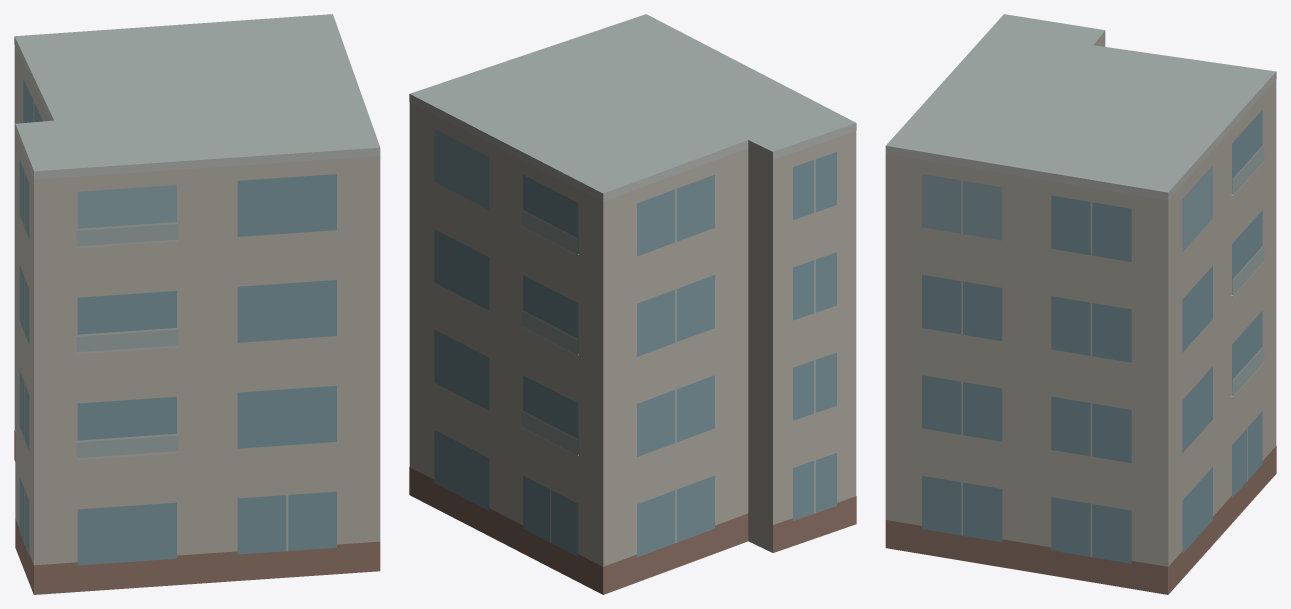
Rendered from survey-upis-32803687.glb.
3 renders of one model, left to right at view 1: azimuth 30°, elevation 25°; view 2: azimuth 150°, elevation 25°; view 3: azimuth 270°, elevation 25°, orthographic. The views are drawn at different scales.
Parts seen in each view (by area): view 1: survey-upis-32803687.tmp; view 2: survey-upis-32803687.tmp; view 3: survey-upis-32803687.tmp.
Boxes of the visible parts, left/top/right/bottom form: survey-upis-32803687.tmp: left=14, top=14, right=380, bottom=594; survey-upis-32803687.tmp: left=409, top=14, right=856, bottom=594; survey-upis-32803687.tmp: left=885, top=14, right=1276, bottom=594.
Bounding box in the file's own units: 11.82 × 12.4 × 10.92.
